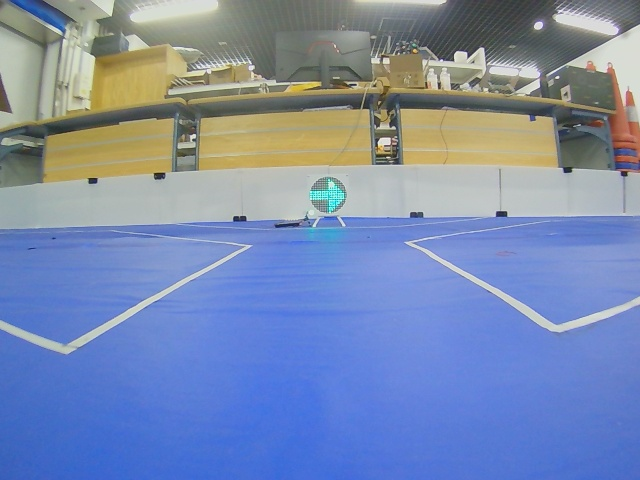right_green: (309, 177, 346, 214)
